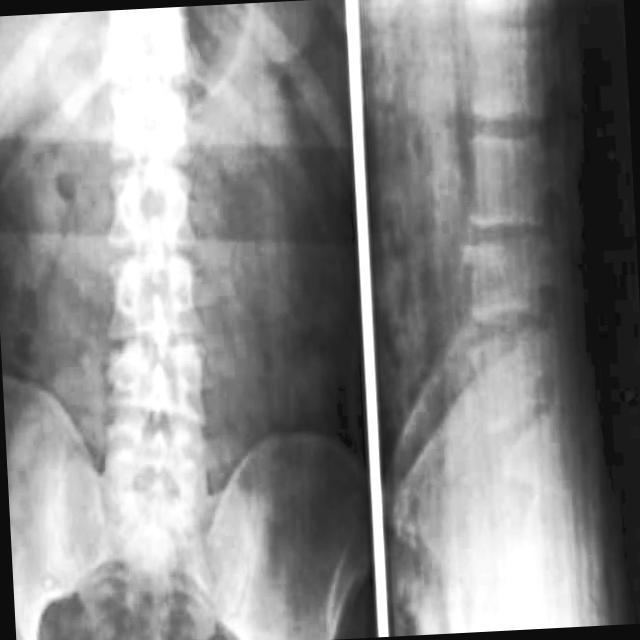Compression-Crush Fracutre: (445, 224, 557, 329)
